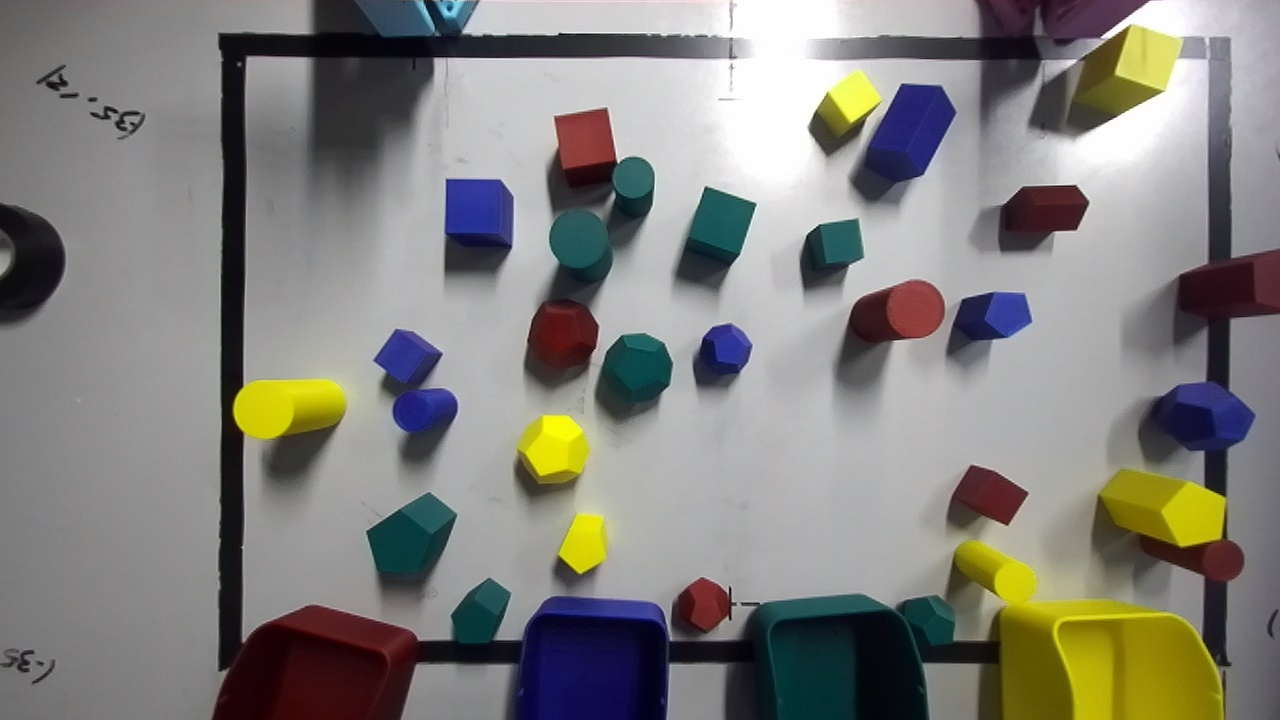bin: (1000, 600, 1223, 719), (212, 605, 418, 719), (752, 594, 927, 719), (515, 597, 668, 719)
cube: (1073, 25, 1181, 114), (685, 186, 755, 263), (554, 108, 616, 186), (445, 178, 513, 248), (951, 464, 1028, 525), (815, 70, 880, 136), (374, 329, 442, 383), (806, 218, 863, 268)
cylinder: (1139, 497, 1244, 581), (232, 379, 345, 438), (849, 279, 944, 342), (953, 540, 1036, 603), (549, 209, 612, 282), (392, 388, 457, 432), (612, 157, 654, 217)
dodecahedron: (1150, 381, 1255, 450), (602, 332, 672, 404), (516, 415, 588, 483), (527, 299, 598, 367), (895, 595, 955, 648), (676, 577, 731, 631), (699, 324, 751, 373)
hexagonal: (1100, 469, 1225, 546), (865, 84, 956, 181), (366, 492, 456, 572), (1177, 249, 1279, 319), (1002, 185, 1089, 232), (451, 578, 510, 643), (952, 292, 1031, 340), (557, 514, 607, 573)
